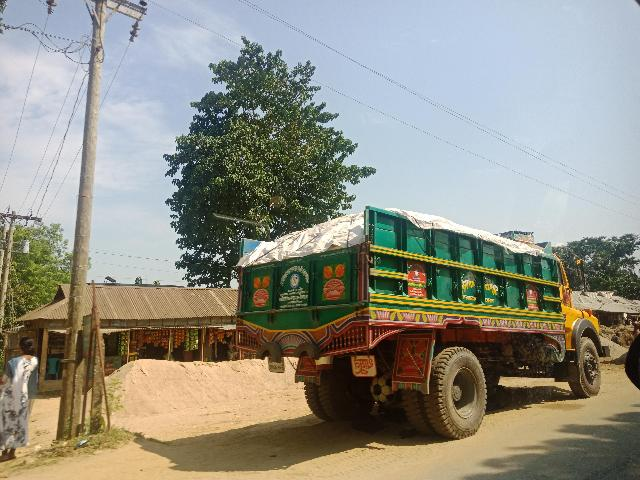truck: (232, 205, 605, 438)
